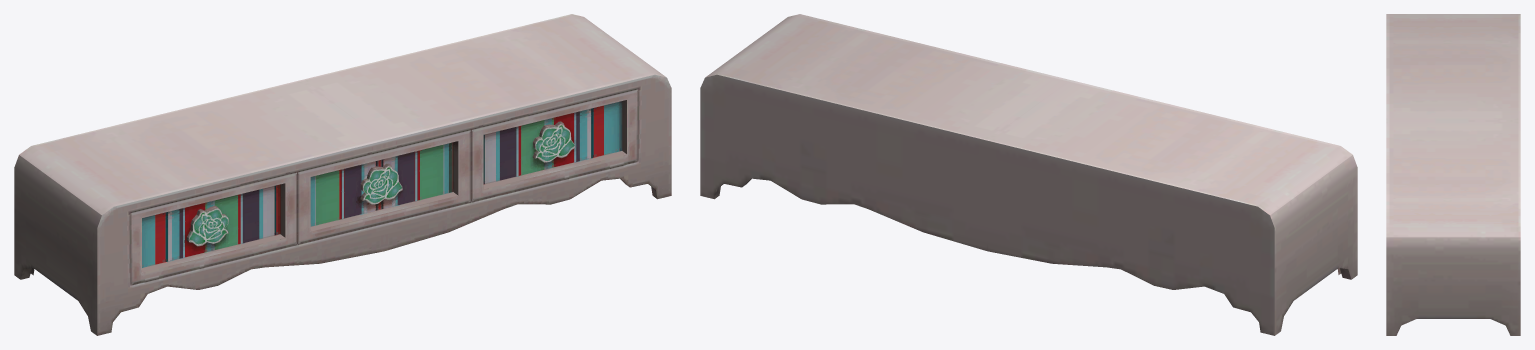
Rendered from furni_0200607_03.FBX.
3 renders of one model, left to right at view 1: azimuth 30°, elevation 25°; view 2: azimuth 150°, elevation 25°; view 3: azimuth 270°, elevation 25°, orthographic. The views are drawn at different scales.
Visible parts, largest first — view 1: furni_0200607_03; view 2: furni_0200607_03; view 3: furni_0200607_03.
Boxes of the visible parts, x1=… form: furni_0200607_03: x1=14, y1=14, x2=671, y2=335; furni_0200607_03: x1=700, y1=14, x2=1357, y2=335; furni_0200607_03: x1=1386, y1=14, x2=1520, y2=335.
Bounding box in the file's own units: 240 × 50 × 60.
1 material, 1 textured.
